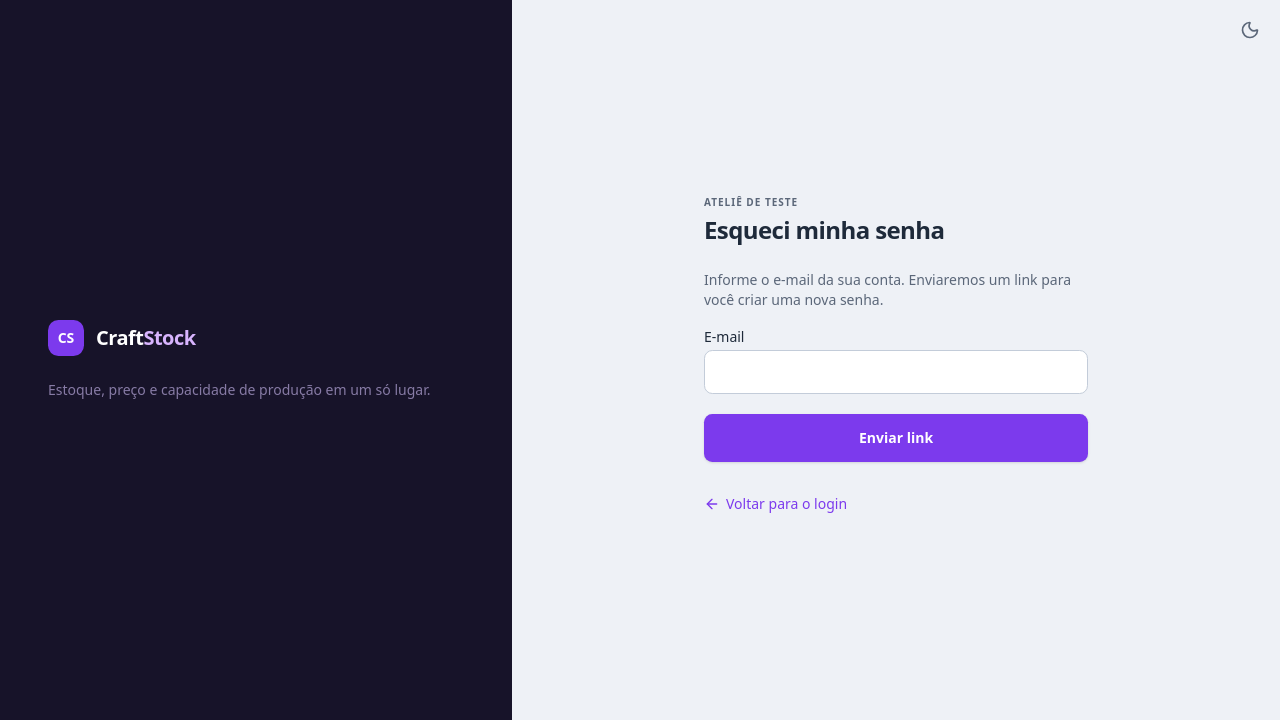
Test: asking for the link › says exactly the same for an address that has no account
Type "ninguem@exemplo.com.br" into the field labelled "E-mail". click: (896, 372)
box: [704,350,1088,394]
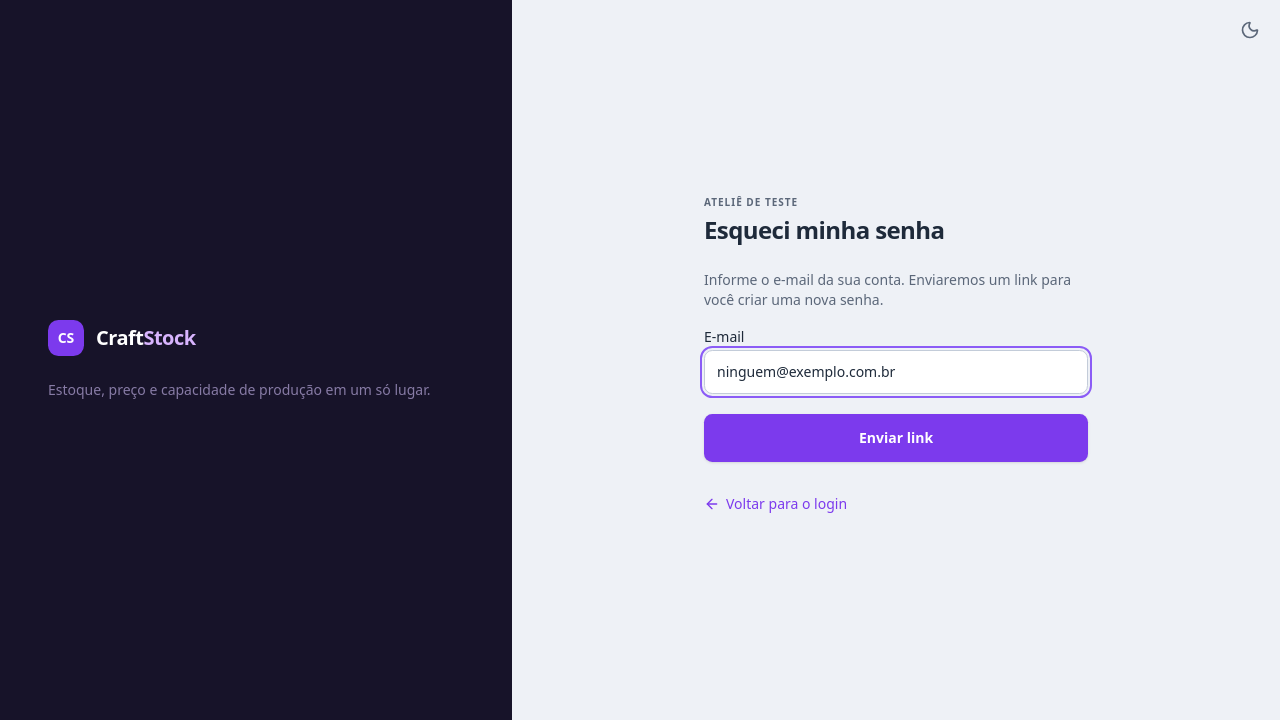
Click the button "Enviar link". click: (896, 438)
box: [704,414,1088,462]
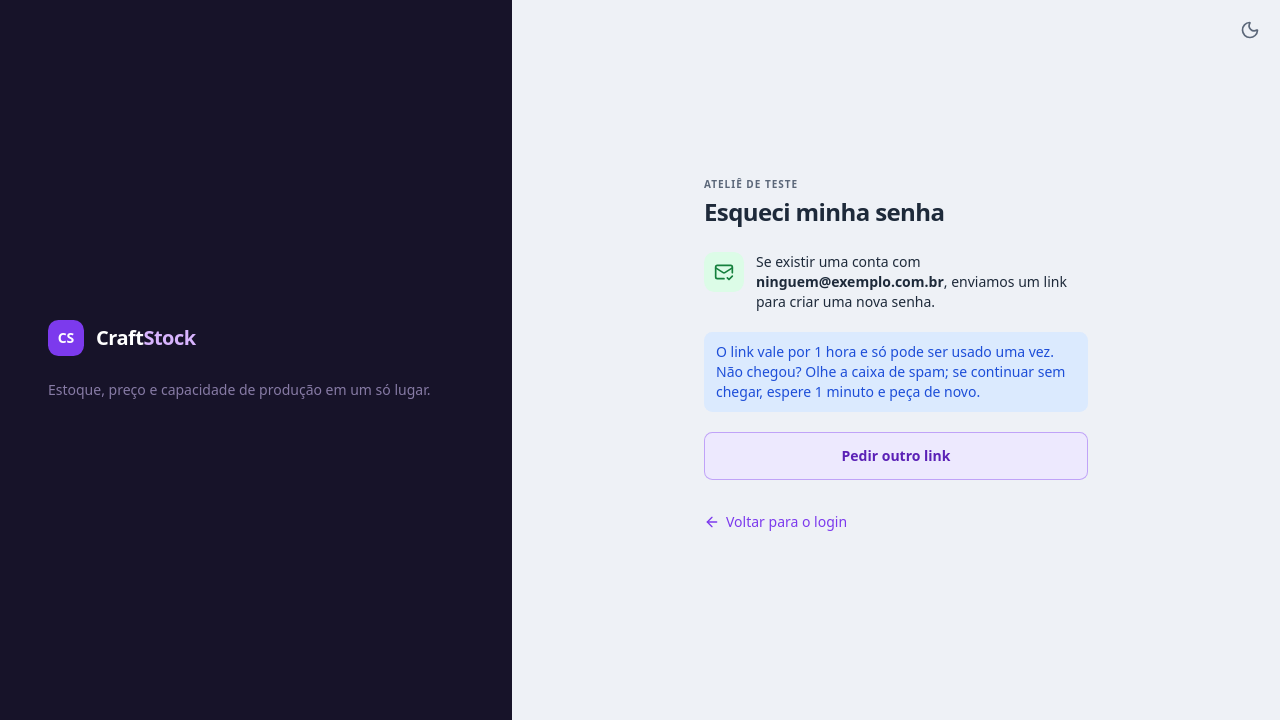
Now the message shows "Se existir uma conta com ninguem@exemplo.com.br, enviamos um link", box [756,252,1088,312]
